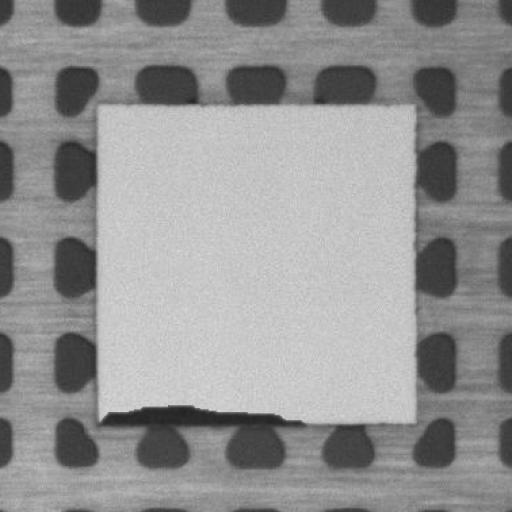DIE_BROKEN: (95, 396, 306, 432)
